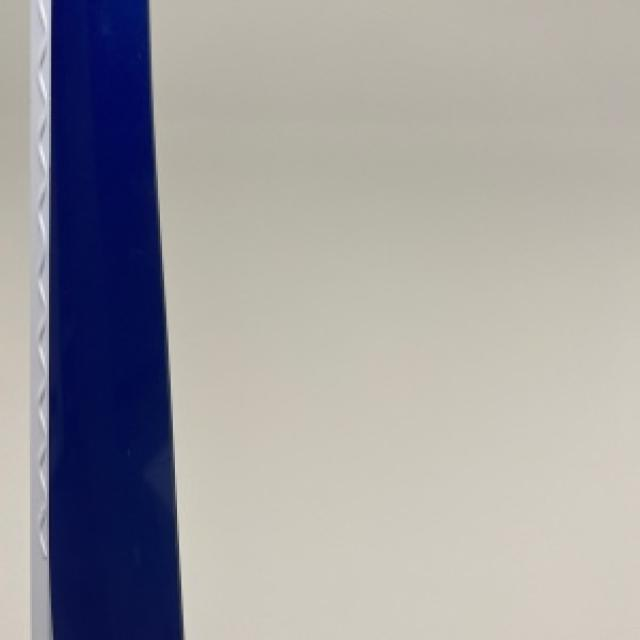healthy: (32, 0, 179, 638)
